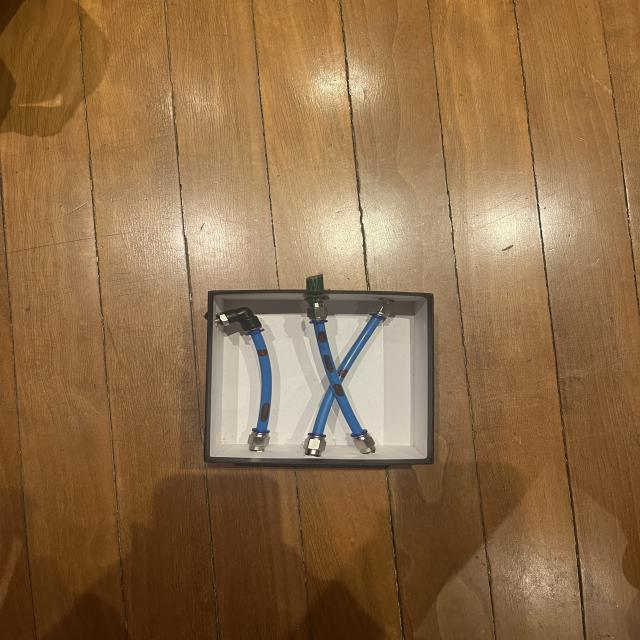hose_damage: (320, 352, 336, 375), (330, 382, 347, 398), (260, 402, 270, 423), (316, 330, 328, 343), (338, 368, 349, 378), (256, 349, 268, 357)
